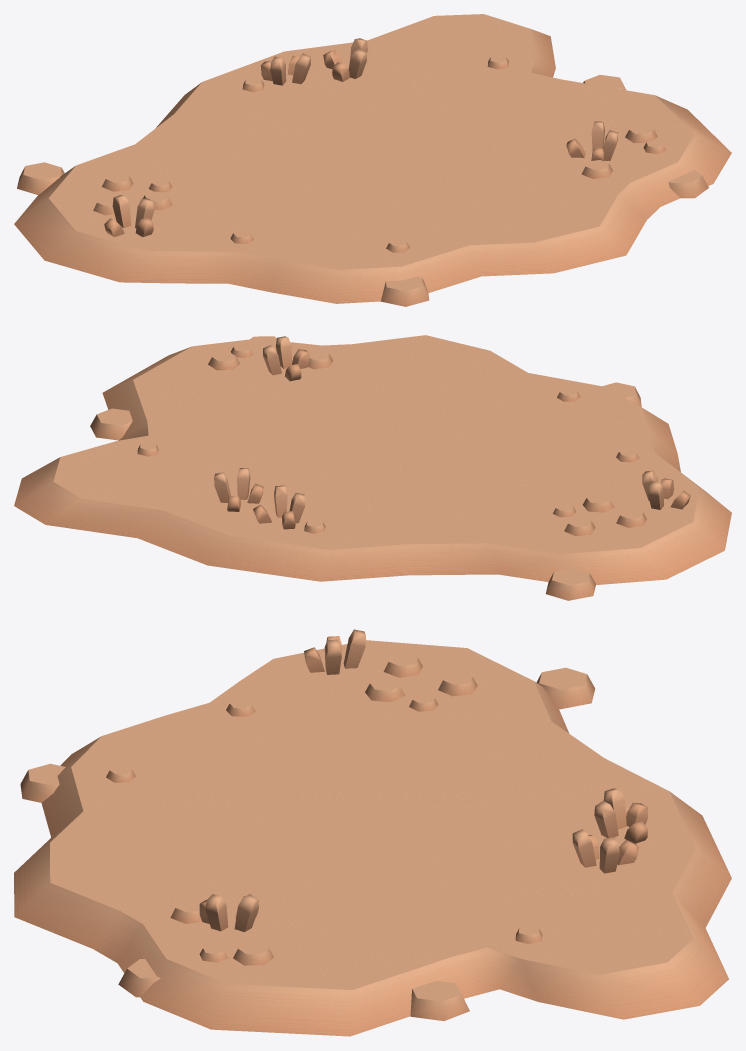
File: patch-sand-foliage_lev2.glb
3 renders of one model, top to bottom at view 1: azimuth 30°, elevation 25°; view 2: azimuth 150°, elevation 25°; view 3: azimuth 270°, elevation 25°, orthographic. The views are drawn at different scales.
Parts seen in each view (by area): view 1: patch-sand-foliage_lev2; view 2: patch-sand-foliage_lev2; view 3: patch-sand-foliage_lev2.
Boxes of the visible parts, x1,y1,x2,y2 form: patch-sand-foliage_lev2: (14,14,731,306); patch-sand-foliage_lev2: (14,335,731,600); patch-sand-foliage_lev2: (14,629,731,1036).
Size of the model in its own units: 16.67 by 1.22 by 13.01.
1 material, 1 textured.
